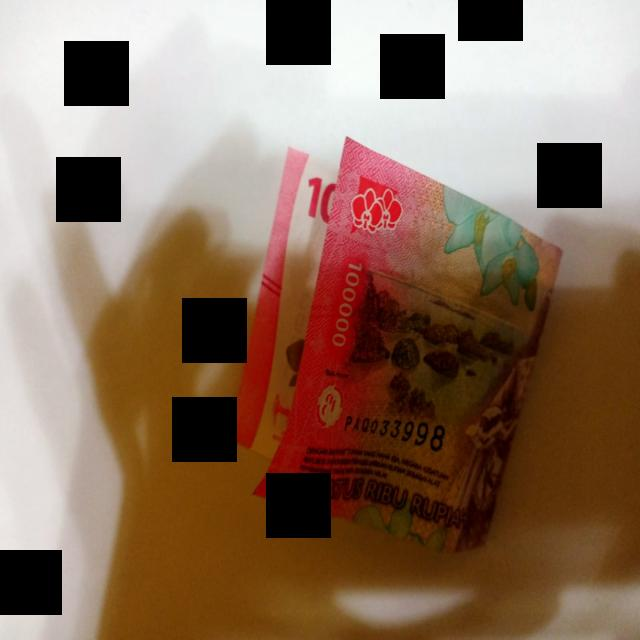seratusribu rupiah: (232, 138, 561, 552)
